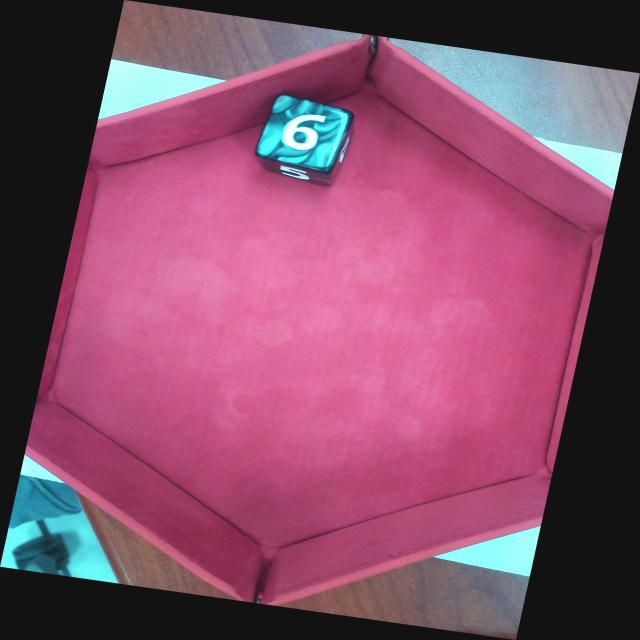dice: (256, 93, 352, 173)
